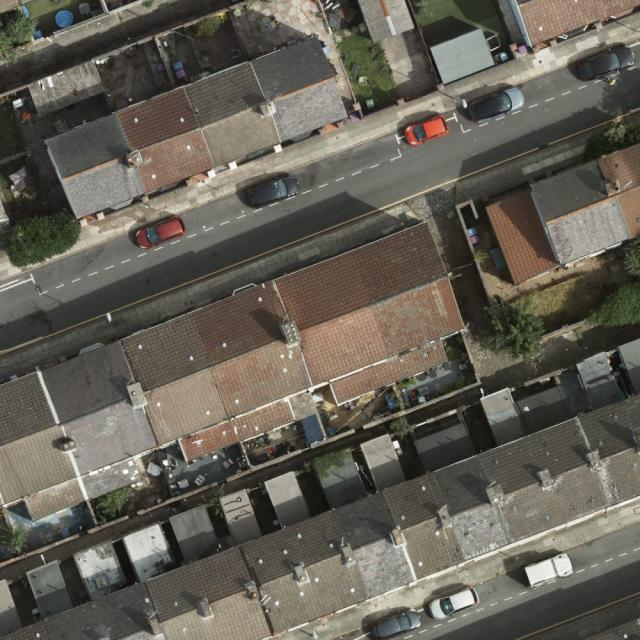roof: (0, 339, 640, 640), (1, 221, 465, 522), (47, 37, 350, 221), (486, 141, 640, 286), (515, 0, 639, 45), (586, 618, 640, 639)
